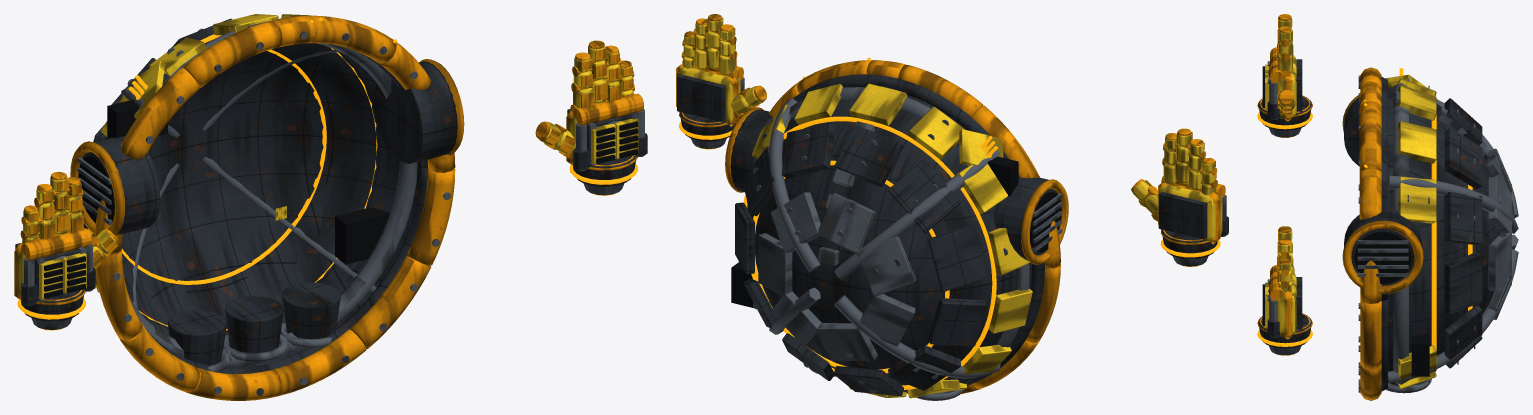
The model's file is end2-boss.glb.
3 renders of one model, left to right at view 1: azimuth 30°, elevation 25°; view 2: azimuth 150°, elevation 25°; view 3: azimuth 270°, elevation 25°, orthographic. The views are drawn at different scales.
Parts seen in each view (by area): view 1: boss_shell_boss_gunmetal, boss_shell_boss_orange, boss_shell_boss_steel, ear.001_boss_gunmetal, ear_boss_gunmetal, thruster.001_boss_gunmetal, thruster.002_boss_gunmetal, thruster_boss_gunmetal, dmg2_boss_dark, bezel_chunk_boss_orange, boss_shell_boss_accent, boss_shell_boss_yellow (+19 smaller); view 2: boss_shell_boss_gunmetal, boss_shell_boss_steel, boss_shell_boss_yellow, boss_shell_boss_orange, boss_shell_boss_accent, l_palm_g_boss_gunmetal, r_palm_g_boss_gunmetal, ear_boss_gunmetal, ear.001_boss_gunmetal, ear_boss_orange, dmg1_boss_yellow, bezel_chunk_boss_orange (+10 smaller); view 3: boss_shell_boss_gunmetal, boss_shell_boss_steel, boss_shell_boss_yellow, boss_shell_boss_orange, ear.001_boss_orange, bezel_chunk_boss_orange, ear.001_boss_dark, ear.001_boss_gunmetal, ear.001_boss_steel, boss_shell_boss_accent, ear_boss_gunmetal, dmg2_boss_dark (+12 smaller).
Boxes of the visible parts, left/top/right/bottom form: boss_shell_boss_gunmetal: left=83, top=18, right=428, bottom=373; boss_shell_boss_orange: left=94, top=15, right=455, bottom=400; boss_shell_boss_steel: left=92, top=21, right=450, bottom=395; ear.001_boss_gunmetal: left=374, top=61, right=457, bottom=163; ear_boss_gunmetal: left=80, top=135, right=160, bottom=234; thruster.001_boss_gunmetal: left=225, top=296, right=283, bottom=352; thruster.002_boss_gunmetal: left=282, top=282, right=340, bottom=339; thruster_boss_gunmetal: left=167, top=310, right=226, bottom=365; dmg2_boss_dark: left=335, top=207, right=390, bottom=264; bezel_chunk_boss_orange: left=309, top=15, right=396, bottom=63; boss_shell_boss_accent: left=121, top=34, right=377, bottom=330; boss_shell_boss_yellow: left=88, top=14, right=310, bottom=292; boss_shell_boss_gunmetal: left=735, top=74, right=1045, bottom=396; boss_shell_boss_steel: left=745, top=86, right=1029, bottom=393; boss_shell_boss_yellow: left=752, top=83, right=1032, bottom=398; boss_shell_boss_orange: left=769, top=60, right=1060, bottom=393; boss_shell_boss_accent: left=743, top=116, right=996, bottom=389; l_palm_g_boss_gunmetal: left=1158, top=191, right=1228, bottom=239; r_palm_g_boss_gunmetal: left=677, top=74, right=740, bottom=121; ear_boss_gunmetal: left=993, top=177, right=1060, bottom=260; ear.001_boss_gunmetal: left=730, top=109, right=773, bottom=192; ear_boss_orange: left=1021, top=179, right=1068, bottom=264; dmg1_boss_yellow: left=959, top=129, right=1003, bottom=166; bezel_chunk_boss_orange: left=797, top=60, right=873, bottom=93; boss_shell_boss_gunmetal: left=1381, top=77, right=1500, bottom=391; boss_shell_boss_steel: left=1358, top=75, right=1518, bottom=392; boss_shell_boss_yellow: left=1397, top=78, right=1436, bottom=389; boss_shell_boss_orange: left=1359, top=67, right=1381, bottom=400; ear.001_boss_orange: left=1342, top=220, right=1423, bottom=293; bezel_chunk_boss_orange: left=1359, top=101, right=1381, bottom=172; ear.001_boss_dark: left=1354, top=231, right=1411, bottom=283; ear.001_boss_gunmetal: left=1344, top=207, right=1422, bottom=285; ear.001_boss_steel: left=1357, top=240, right=1408, bottom=276; boss_shell_boss_accent: left=1431, top=115, right=1472, bottom=350; ear_boss_gunmetal: left=1344, top=97, right=1359, bottom=166; dmg2_boss_dark: left=1411, top=333, right=1429, bottom=376.
Bounding box in the file's own units: 27.16 × 15.54 × 12.18.
Materials: 9 (5 with a texture image).
